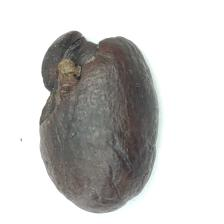NG: (41, 28, 125, 126)
